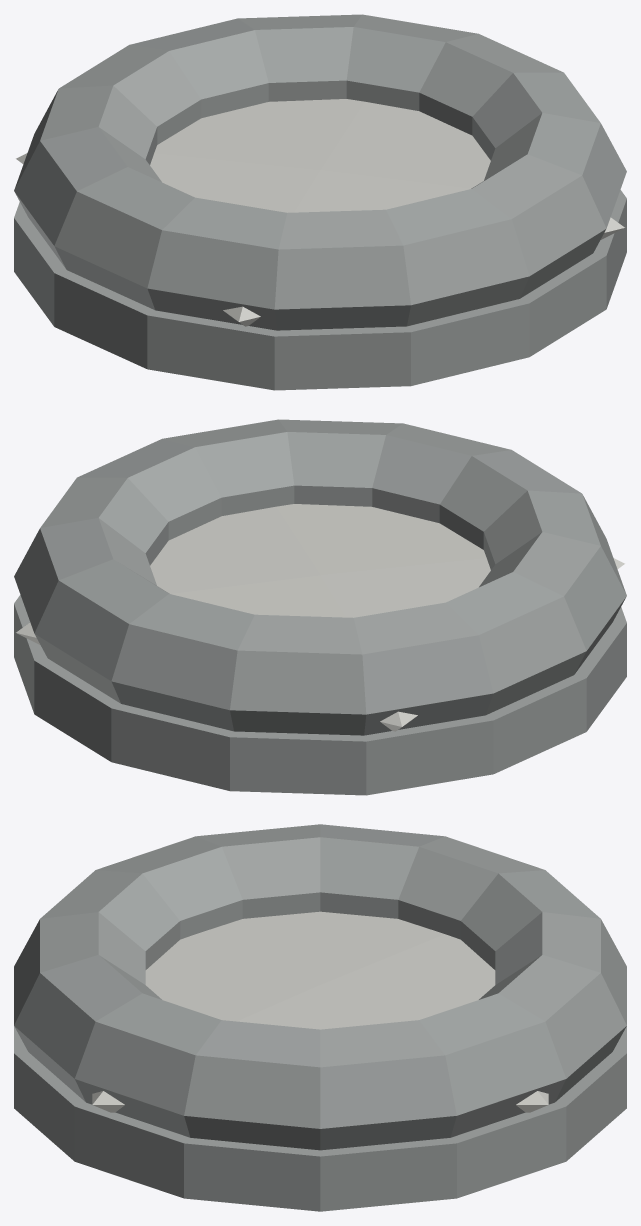
The model's file is SM_LPI_Util_PetBed_01.fbx.
The picture shows the model from 3 angles, top to bottom: view 1: azimuth 30°, elevation 25°; view 2: azimuth 150°, elevation 25°; view 3: azimuth 270°, elevation 25°; orthographic projection. The views are drawn at different scales.
Parts seen in each view (by area): view 1: SM_LPI_Util_PetBed_01; view 2: SM_LPI_Util_PetBed_01; view 3: SM_LPI_Util_PetBed_01.
Part boxes in pixels (x1,y1,x2,y2): SM_LPI_Util_PetBed_01: (14,14,626,390); SM_LPI_Util_PetBed_01: (14,419,626,795); SM_LPI_Util_PetBed_01: (14,824,626,1211).
Size of the model in its own units: 0.62 by 0.1582 by 0.6045.
